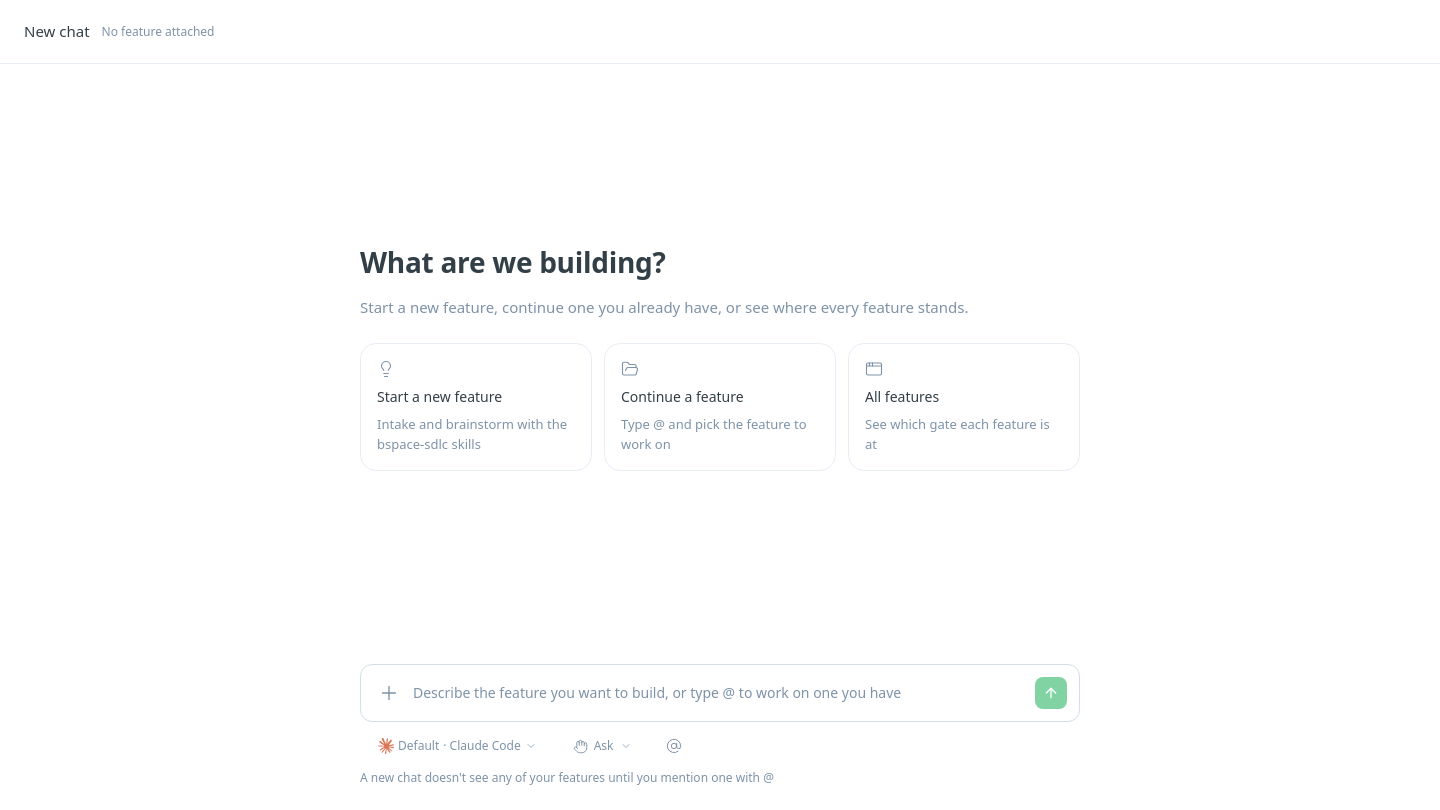
ChatNew › shows project titles after typing @ and inserts a chip on Enter
Check: the text "No feature attached" is shown, box [102, 24, 214, 40]
Type "Bikin versi 15 detik dari @" into the text box named "Message" at (720, 693), box [413, 677, 1027, 709]
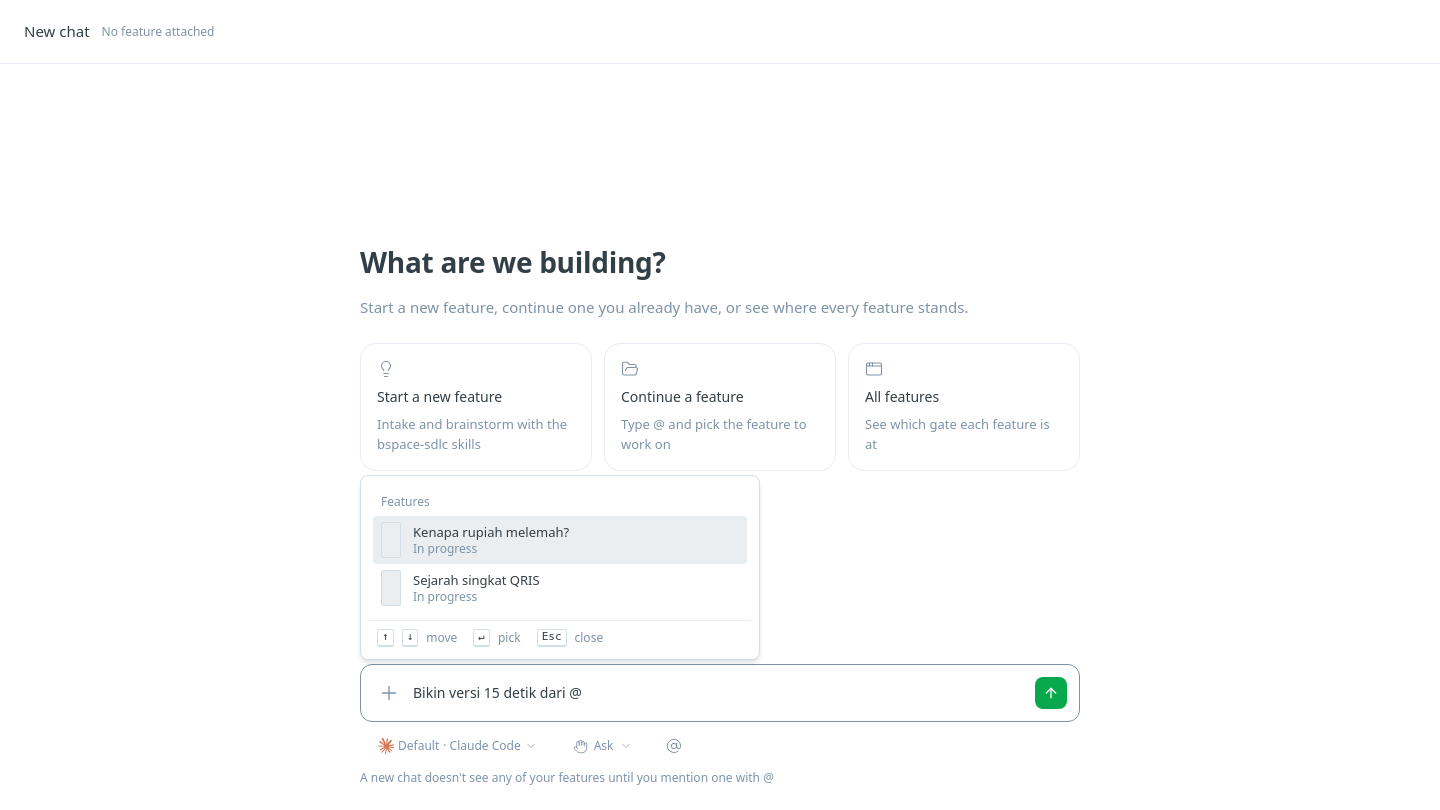
Check: the text "Kenapa rupiah melemah?" is shown, box [413, 523, 569, 541]
Check: the text "Sejarah singkat QRIS" is shown, box [413, 571, 540, 589]
Press Enter
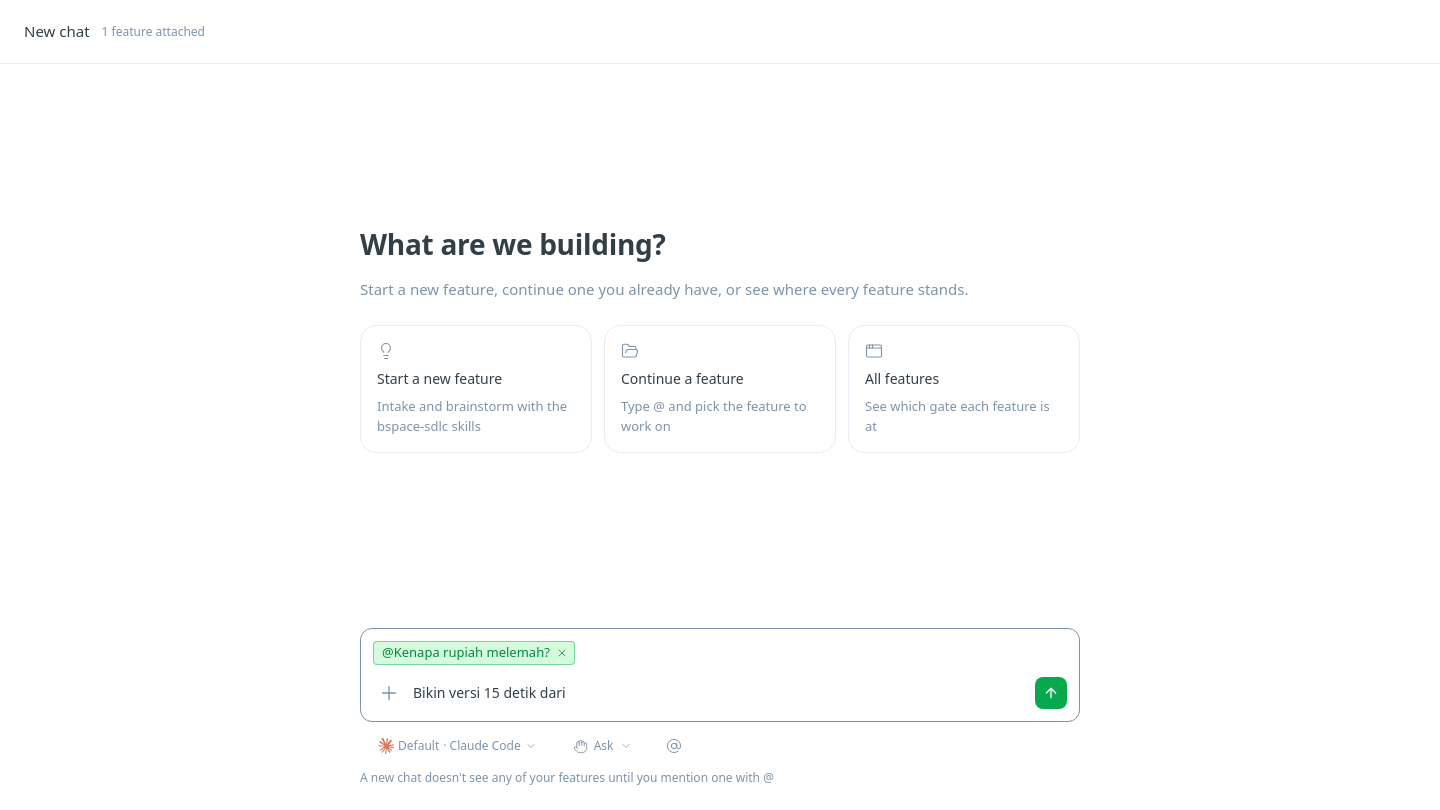
Check: the text "1 feature attached" is shown, box [102, 24, 205, 40]
Check: the text "@Kenapa rupiah melemah?" is shown, box [373, 641, 575, 665]
